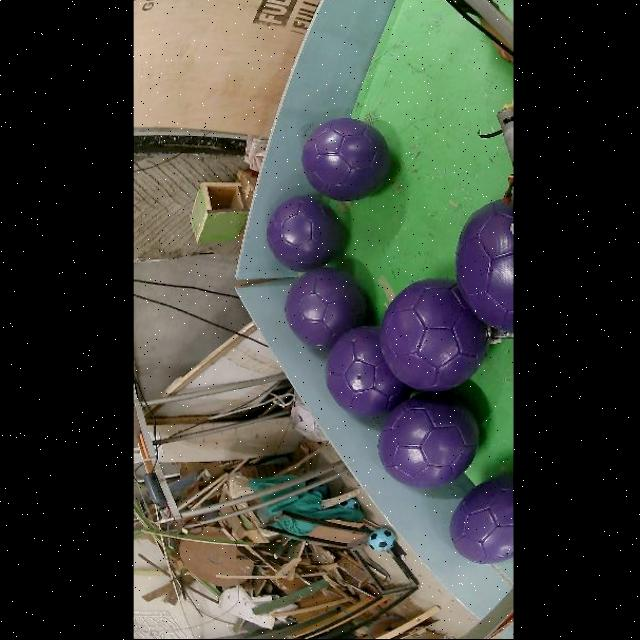P: (379, 279, 488, 392), (376, 393, 478, 488), (323, 326, 410, 417), (454, 199, 512, 333), (301, 119, 389, 202), (284, 268, 365, 347), (449, 475, 512, 565), (265, 197, 340, 272)
